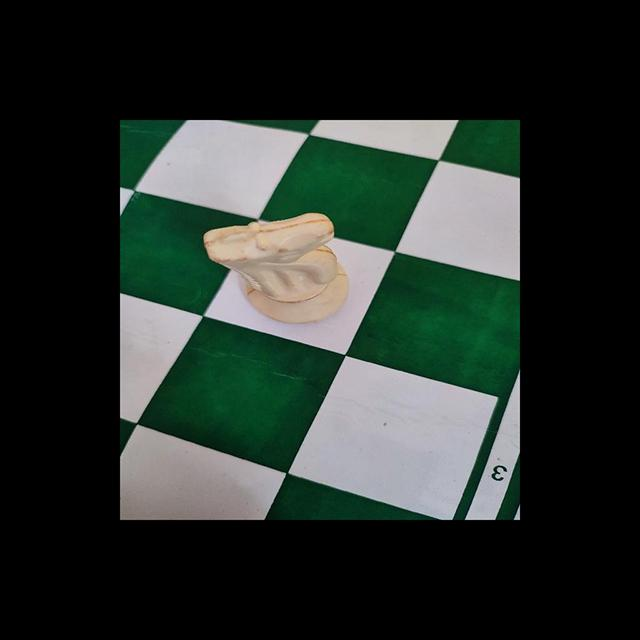white-knight: (202, 212, 352, 324)
